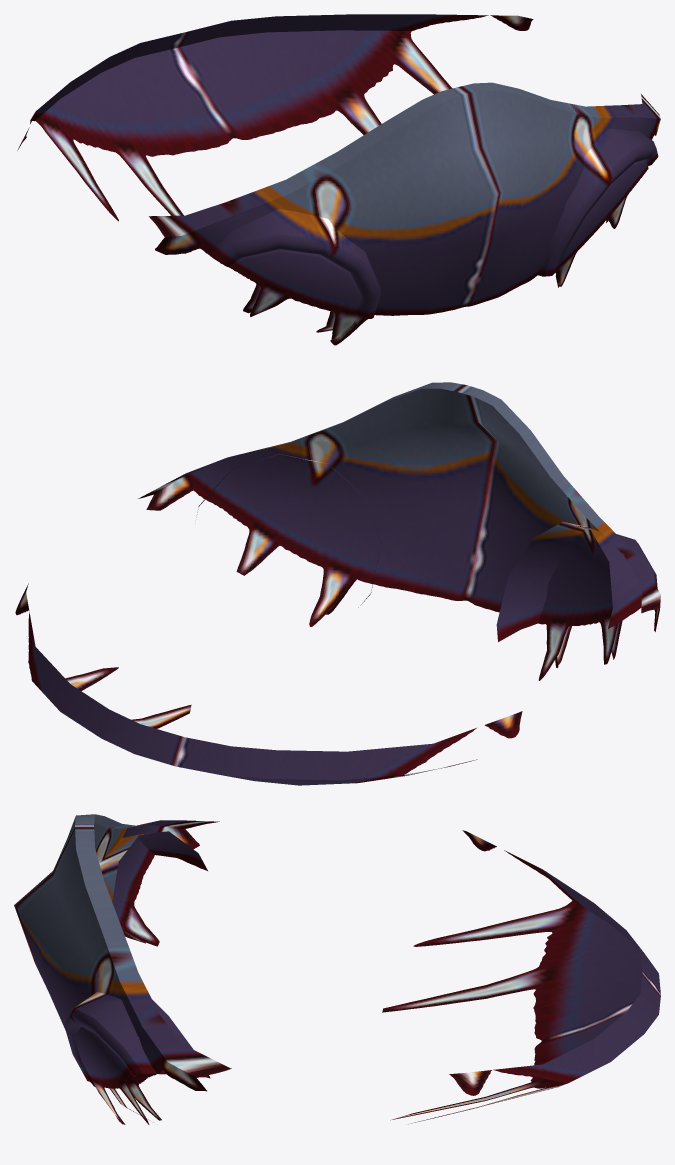
File: 11_007_Mask_Studded.glb
The picture shows the model from 3 angles, top to bottom: view 1: azimuth 30°, elevation 25°; view 2: azimuth 150°, elevation 25°; view 3: azimuth 270°, elevation 25°; orthographic projection.
Visible parts, largest first — view 1: 11_007_Mask_Studded; view 2: 11_007_Mask_Studded; view 3: 11_007_Mask_Studded.
Boxes of the visible parts, left/top/right/bottom form: 11_007_Mask_Studded: left=17, top=14, right=660, bottom=345; 11_007_Mask_Studded: left=15, top=382, right=660, bottom=785; 11_007_Mask_Studded: left=14, top=814, right=660, bottom=1124.
Bounding box in the file's own units: 0.2284 × 0.1027 × 0.229.
Materials: 1 (1 with a texture image).
